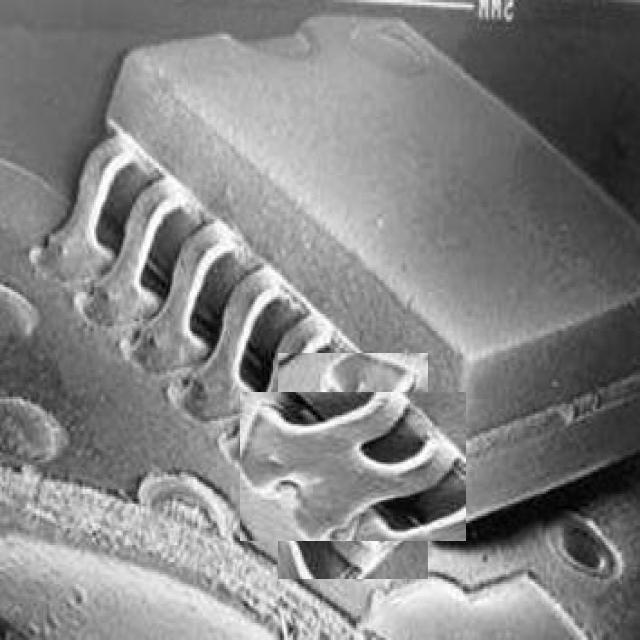Short_circuit: (260, 372, 448, 560)
